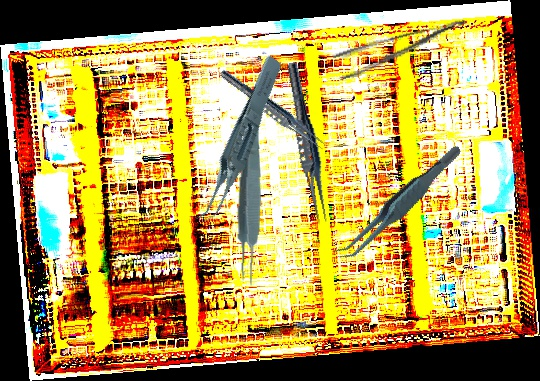Dressing Forceps: (331, 16, 474, 82)
Tissue Forceps: (162, 54, 313, 227), (318, 144, 480, 264), (215, 66, 331, 154), (279, 61, 335, 226), (233, 96, 266, 287)
